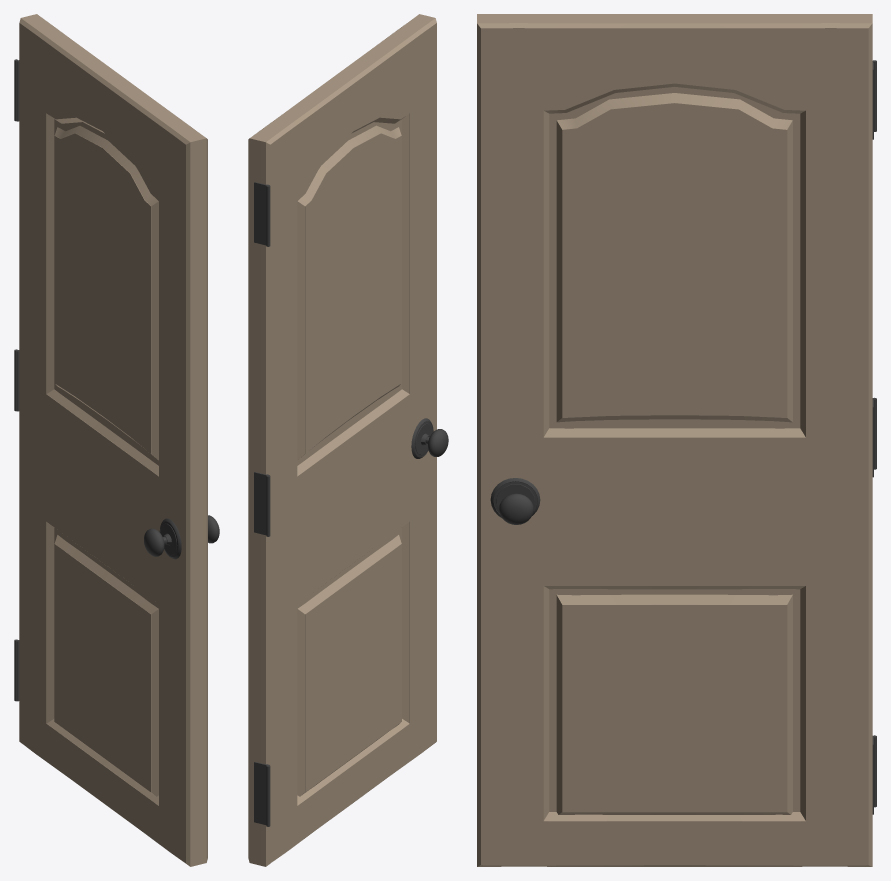
File: sm_door6.fbx
3 renders of one model, left to right at view 1: azimuth 30°, elevation 25°; view 2: azimuth 150°, elevation 25°; view 3: azimuth 270°, elevation 25°, orthographic. The views are drawn at different scales.
Visible parts, largest first — view 1: door2, nob; view 2: door2, nob, polySurface366, polySurface367, polySurface365; view 3: door2, nob.
Boxes of the visible parts, x1,y1,x2,y2 form: door2: (19, 14, 207, 866); nob: (144, 515, 219, 559); door2: (248, 14, 436, 866); nob: (411, 418, 448, 458); polySurface366: (254, 472, 269, 535); polySurface367: (254, 762, 269, 824); polySurface365: (254, 182, 268, 245); door2: (477, 14, 872, 866); nob: (490, 478, 540, 524).
Bounding box in the file's own units: 43.78 × 434 × 186.
